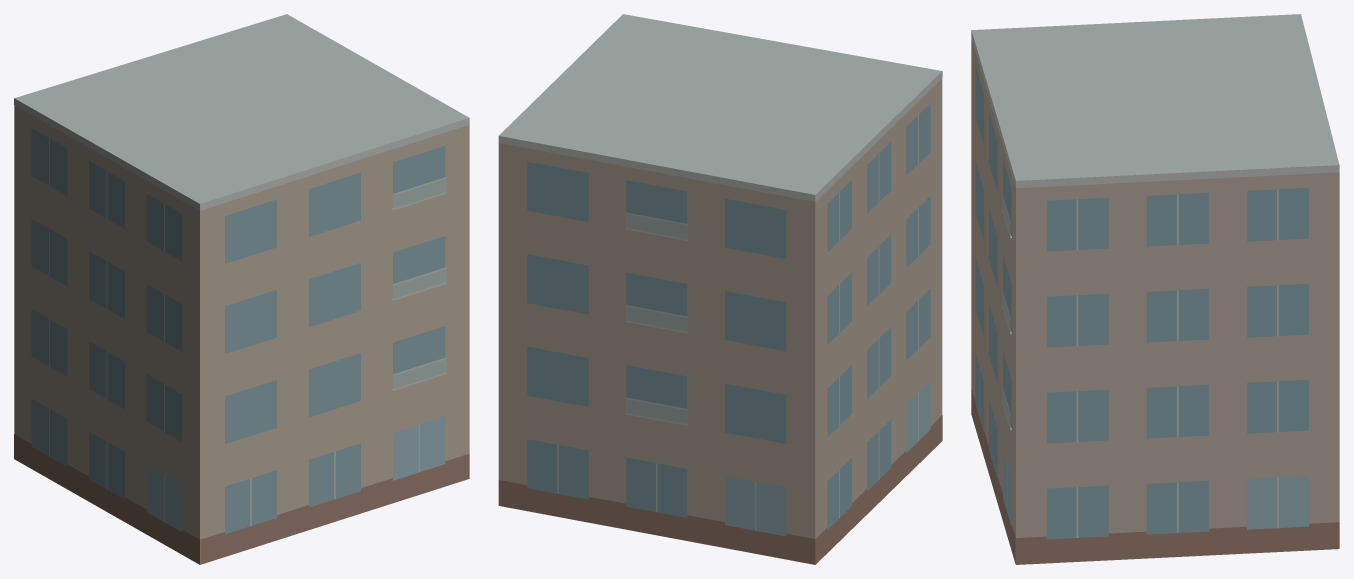
File: survey-upis-32663696.glb
3 renders of one model, left to right at view 1: azimuth 30°, elevation 25°; view 2: azimuth 150°, elevation 25°; view 3: azimuth 270°, elevation 25°, orthographic. The views are drawn at different scales.
Visible parts, largest first — view 1: survey-upis-32663696.tmp; view 2: survey-upis-32663696.tmp; view 3: survey-upis-32663696.tmp.
Part boxes in pixels (bbox=[...]): survey-upis-32663696.tmp: bbox=[14, 14, 469, 564]; survey-upis-32663696.tmp: bbox=[498, 14, 942, 564]; survey-upis-32663696.tmp: bbox=[971, 14, 1339, 564].
Size of the model in its own units: 11.94 by 12.8 by 11.13.
